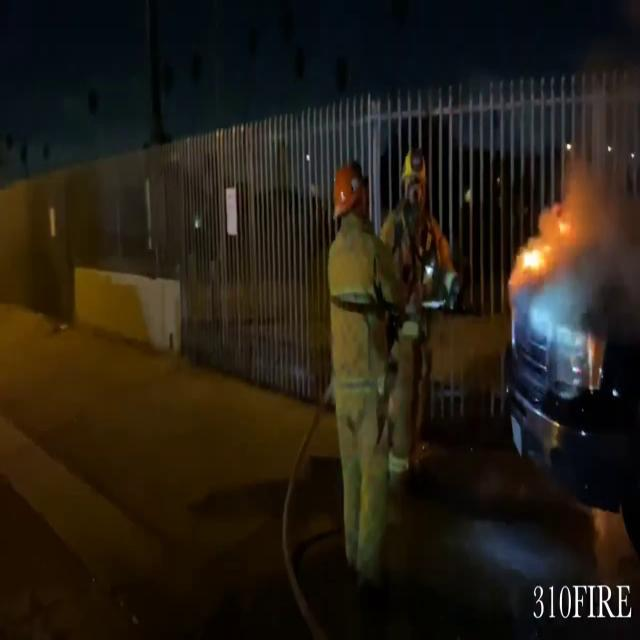Fire: (511, 186, 579, 285)
Smoke: (575, 82, 640, 280)
